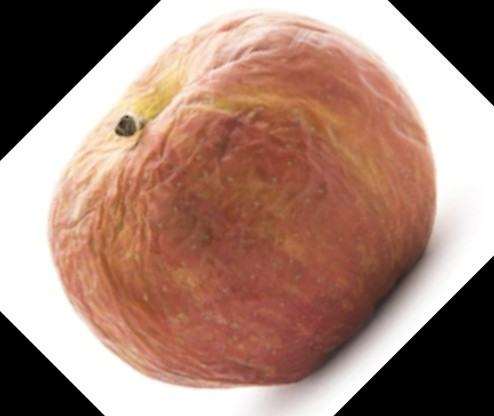rotten_apple: (49, 7, 437, 389)
